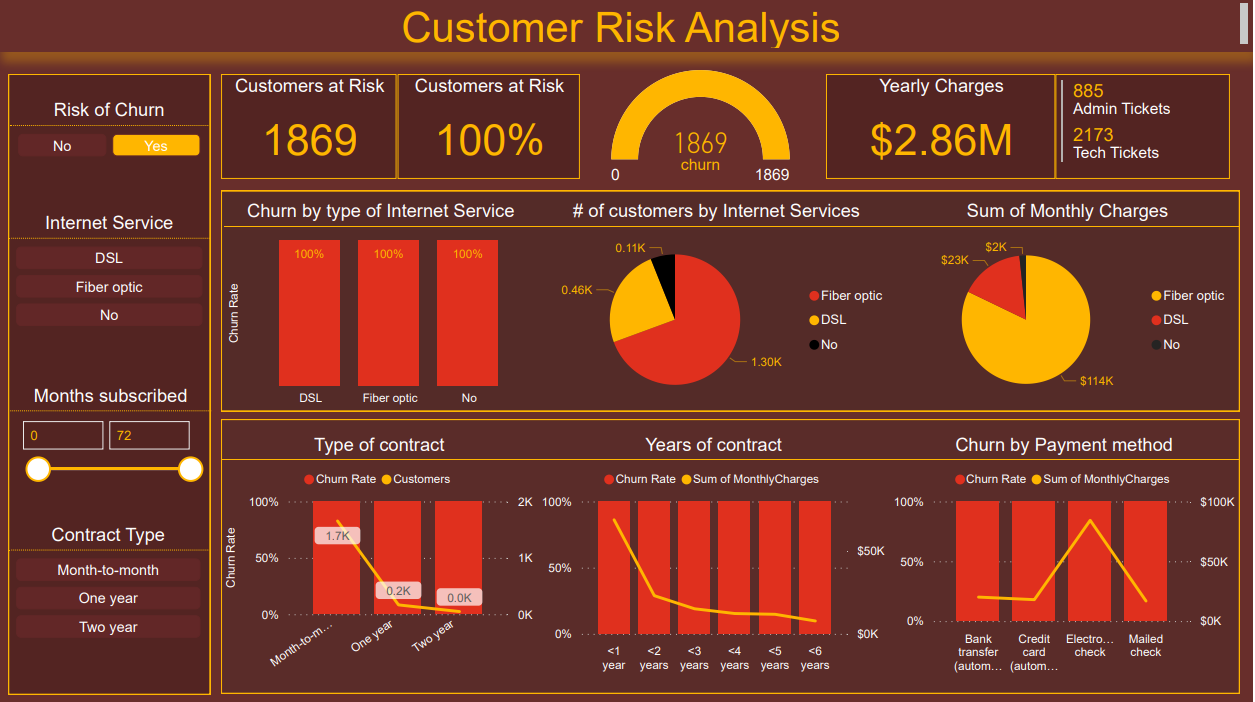

Layout of this report page (visuals, bound fields, positions):
{"tool":"powerbi","page":{"name":"Customer Risk Analysis","canvas":[1280,720],"ordinal":1},"visuals":[{"type":"textbox","box":[677.5,155.9,79.4,28.3],"z":0},{"type":"shape","box":[228.2,195.6,1038.9,225.4],"z":1000},{"type":"shape","box":[228.2,429.4,1038.9,279.2],"z":2000},{"type":"shape","box":[11.3,76.5,205.5,633.5],"z":3000},{"type":"ChicletSlicer1448559807354","title":"Risk of Churn","fields":{"Category":["01 Churn-Dataset.Churn"]},"box":[12.8,103.5,202.7,78],"z":4000},{"type":"textbox","box":[0,0,1279.8,55.3],"z":5000},{"type":"ChicletSlicer1448559807354","title":"Internet Service ","fields":{"Category":["01 Churn-Dataset.InternetService"]},"box":[11.3,218.3,205.5,129],"z":6000},{"type":"ChicletSlicer1448559807354","title":"Contract Type","fields":{"Category":["01 Churn-Dataset.Contract"]},"box":[11.3,535.7,204.1,131.8],"z":7000},{"type":"slicer","title":"Months subscribed","fields":{"Values":["01 Churn-Dataset.tenure"]},"box":[12.8,394,205.5,110.6],"z":8000},{"type":"columnChart","title":"Churn by type of Internet Service","fields":{"Category":["01 Churn-Dataset.InternetService"],"Y":["01 Churn-Dataset.%_ChurnRate"]},"box":[231,205.5,320.3,216.9],"z":9000},{"type":"pieChart","title":"# of customers by Internet Services","fields":{"Y":["CountNonNull(01 Churn-Dataset.customerID)"],"Category":["01 Churn-Dataset.InternetService"]},"box":[549.9,205.5,367.1,215.4],"z":10000},{"type":"pieChart","title":"Sum of Monthly Charges","fields":{"Y":["Sum(01 Churn-Dataset.MonthlyCharges)"],"Category":["01 Churn-Dataset.InternetService"]},"box":[917,205.5,348.7,215.4],"z":11000},{"type":"lineStackedColumnComboChart","title":"Type of contract","fields":{"Category":["01 Churn-Dataset.Contract"],"Y":["01 Churn-Dataset.%_ChurnRate"],"Y2":["CountNonNull(01 Churn-Dataset.customerID)"]},"box":[228.2,443.6,323.1,249.4],"z":12000},{"type":"lineStackedColumnComboChart","title":"Years of contract","fields":{"Category":["01 Churn-Dataset.tenure_yrs"],"Y":["01 Churn-Dataset.%_ChurnRate"],"Y2":["Sum(01 Churn-Dataset.MonthlyCharges)"]},"box":[549.9,443.6,361.4,250.9],"z":13000},{"type":"lineClusteredColumnComboChart","title":"Churn by Payment method","fields":{"Category":["01 Churn-Dataset.PaymentMethod"],"Y2":["Sum(01 Churn-Dataset.MonthlyCharges)"],"Y":["01 Churn-Dataset.%_ChurnRate"]},"box":[908.5,443.6,358.6,252.3],"z":14000},{"type":"card","title":"Customers at Risk","fields":{"Values":["CountNonNull(01 Churn-Dataset.customerID)"]},"box":[228.2,76.5,178.6,107.7],"z":15000},{"type":"card","title":"Customers at Risk","fields":{"Values":["01 Churn-Dataset.%_ChurnRate"]},"box":[408.2,76.5,185.7,107.7],"z":16000},{"type":"card","title":"Yearly Charges","fields":{"Values":["Sum(01 Churn-Dataset.TotalCharges)"]},"box":[844.7,76.5,233.9,107.7],"z":17000},{"type":"multiRowCard","fields":{"Values":["Sum(01 Churn-Dataset.numAdminTickets)","Sum(01 Churn-Dataset.numTechTickets)"]},"box":[1078.6,76.5,178.6,107.7],"z":18000},{"type":"gauge","fields":{"Y":["01 Churn-Dataset.Count_Churn_Yes"],"MaxValue":["CountNonNull(01 Churn-Dataset.Churn)"]},"box":[605.2,68,223.9,127.6],"z":19000}]}

Visuals, with their boxes in screenshot pixels (x1, y1, x2, y2), scaled from the page's 1280x720 canvas onto the 1255x702 screenshot:
textbox: 664,152,742,180
shape: 224,191,1242,410
shape: 224,419,1242,691
shape: 11,75,213,692
"Risk of Churn" ChicletSlicer1448559807354: 13,101,211,177
textbox: 0,0,1254,54
"Internet Service " ChicletSlicer1448559807354: 11,213,213,339
"Contract Type" ChicletSlicer1448559807354: 11,522,211,651
"Months subscribed" slicer: 13,384,214,492
"Churn by type of Internet Service" columnChart: 226,200,541,412
"# of customers by Internet Services" pieChart: 539,200,899,410
"Sum of Monthly Charges" pieChart: 899,200,1241,410
"Type of contract" lineStackedColumnComboChart: 224,433,541,676
"Years of contract" lineStackedColumnComboChart: 539,433,894,677
"Churn by Payment method" lineClusteredColumnComboChart: 891,433,1242,679
"Customers at Risk" card: 224,75,399,180
"Customers at Risk" card: 400,75,582,180
"Yearly Charges" card: 828,75,1058,180
multiRowCard - Sum(01 Churn-Dataset.numAdminTickets) x Sum(01 Churn-Dataset.numTechTickets): 1058,75,1233,180
gauge - 01 Churn-Dataset.Count_Churn_Yes x CountNonNull(01 Churn-Dataset.Churn): 593,66,813,191
